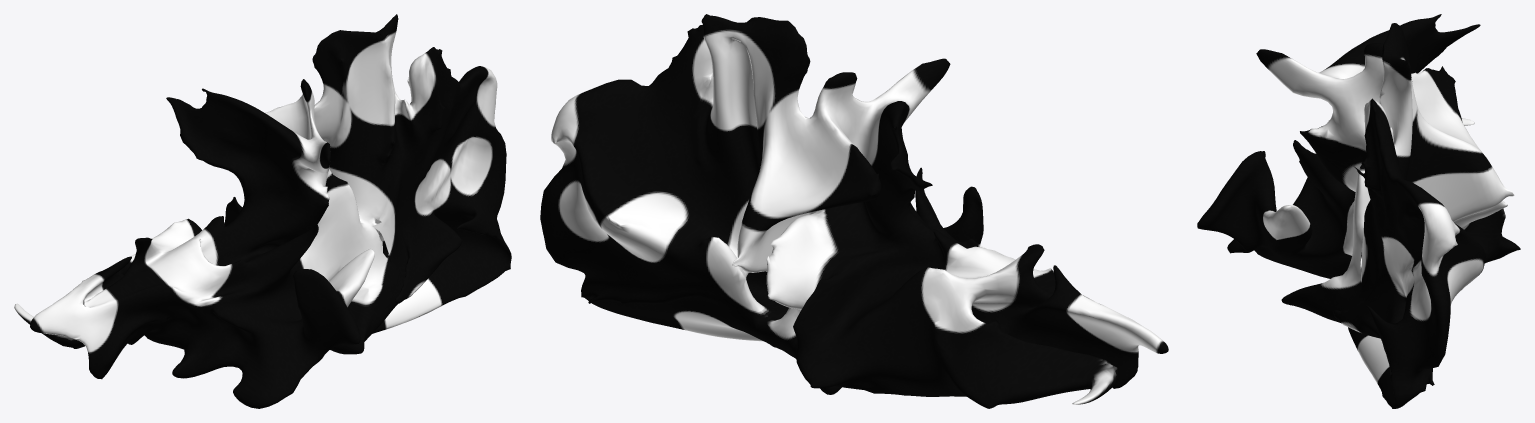
File: buisson_2_UV.fbx
3 views of the same model, side by side, from view 1: azimuth 30°, elevation 25°; view 2: azimuth 150°, elevation 25°; view 3: azimuth 270°, elevation 25° (orthographic). The views are drawn at different scales.
Visible parts, largest first — view 1: buisson2; view 2: buisson2; view 3: buisson2.
Boxes of the visible parts, <box> form: buisson2: <box>14,14,511,408</box>; buisson2: <box>540,14,1168,408</box>; buisson2: <box>1197,14,1520,408</box>.
Bounding box in the file's own units: 114 × 63.78 × 59.43.
